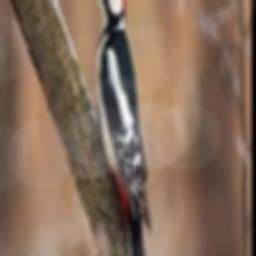Woodpecker: (86, 0, 150, 256)
